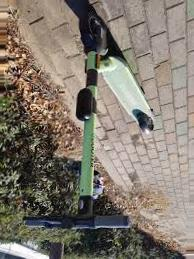scooter: (22, 12, 156, 233)
